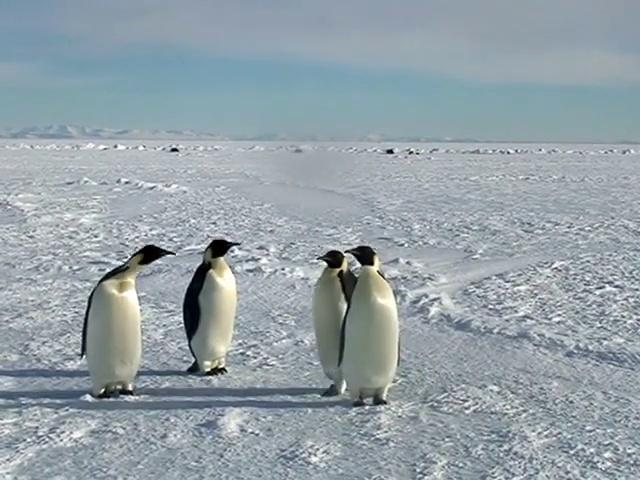animal: (341, 247, 400, 407)
